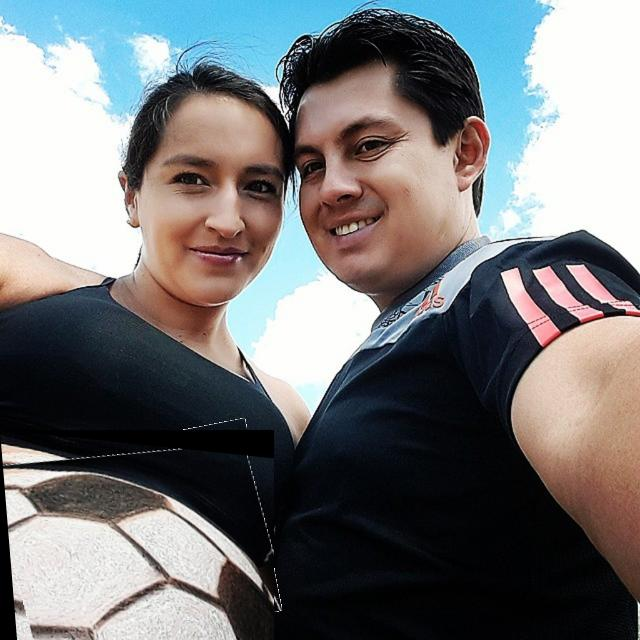Football: (0, 430, 274, 640)
